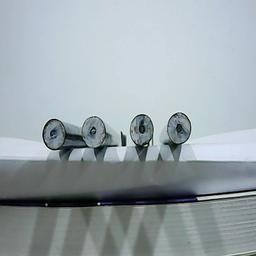pen: (129, 113, 156, 148), (41, 117, 67, 150), (166, 111, 191, 144), (82, 114, 106, 147)
